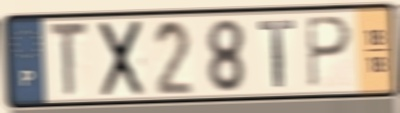2: (151, 18, 198, 97)
8: (203, 16, 248, 95)
P: (303, 14, 354, 91)
T: (47, 19, 91, 101), (256, 17, 297, 90)
X: (98, 17, 147, 100)
